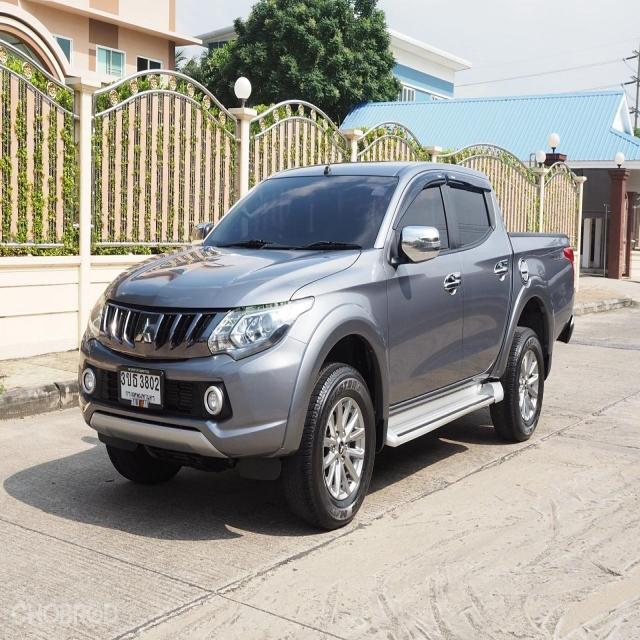license_plate: (115, 364, 167, 408)
